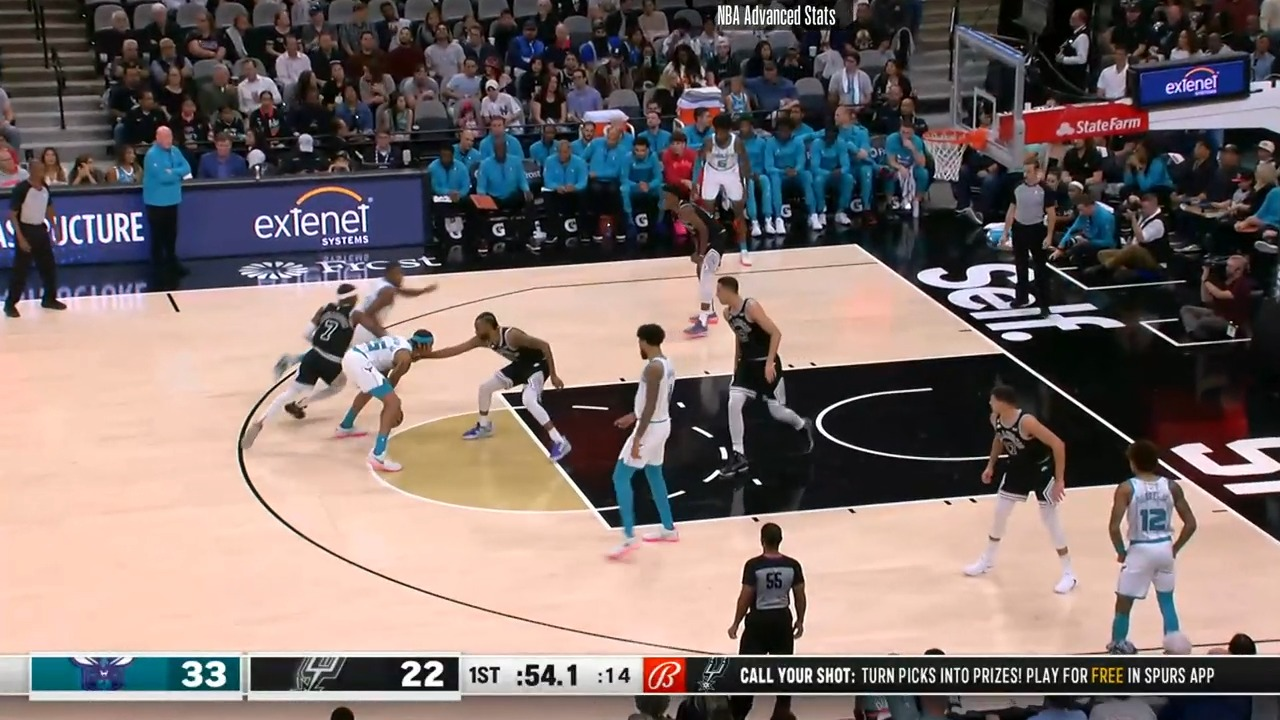net: (917, 122, 991, 188)
player: (960, 380, 1078, 595), (422, 311, 572, 470), (709, 277, 820, 479), (1103, 439, 1200, 657), (602, 323, 684, 565), (267, 280, 381, 440), (337, 261, 442, 424), (347, 323, 444, 480), (665, 184, 740, 340), (689, 117, 756, 274)
referee: (722, 524, 808, 659), (1, 154, 65, 325), (996, 160, 1055, 320)
